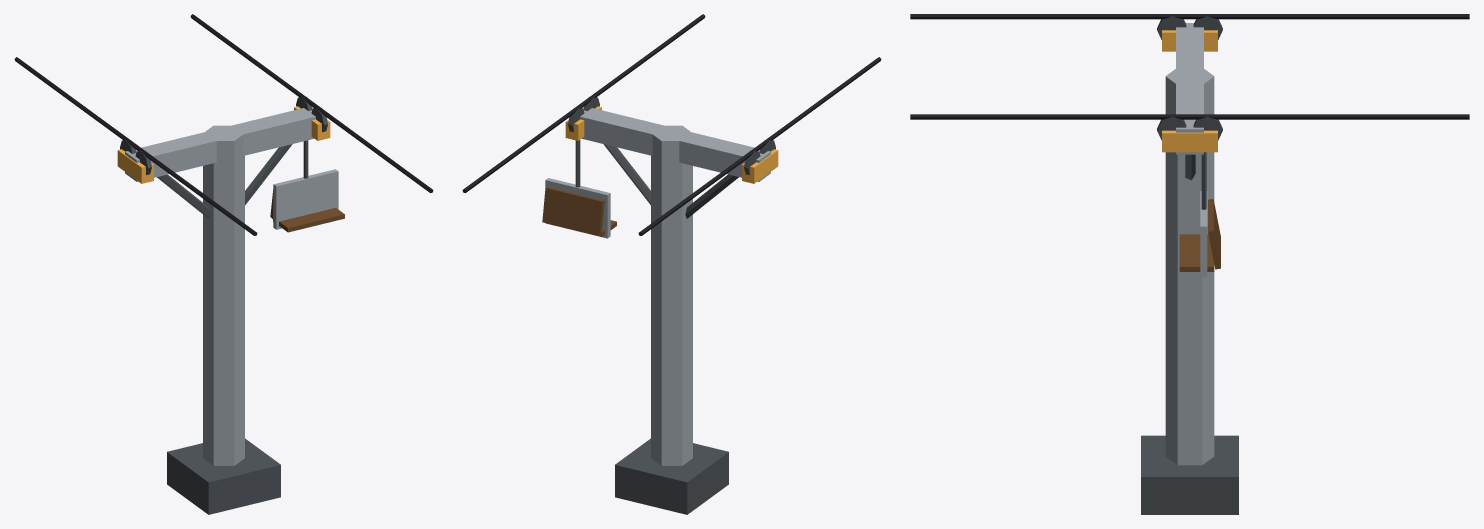
File: chairlift_pylon.glb
The picture shows the model from 3 angles, left to right: view 1: azimuth 30°, elevation 25°; view 2: azimuth 150°, elevation 25°; view 3: azimuth 270°, elevation 25°; orthographic projection. The views are drawn at different scales.
Visible parts, largest first — view 1: Flocon_Chairlift_Pylon; view 2: Flocon_Chairlift_Pylon; view 3: Flocon_Chairlift_Pylon.
Boxes of the visible parts, x1,y1,x2,y2 form: Flocon_Chairlift_Pylon: (14, 14, 433, 514); Flocon_Chairlift_Pylon: (462, 14, 881, 514); Flocon_Chairlift_Pylon: (910, 14, 1469, 514).
Bounding box in the file's own units: 4.12 × 6.79 × 8.
